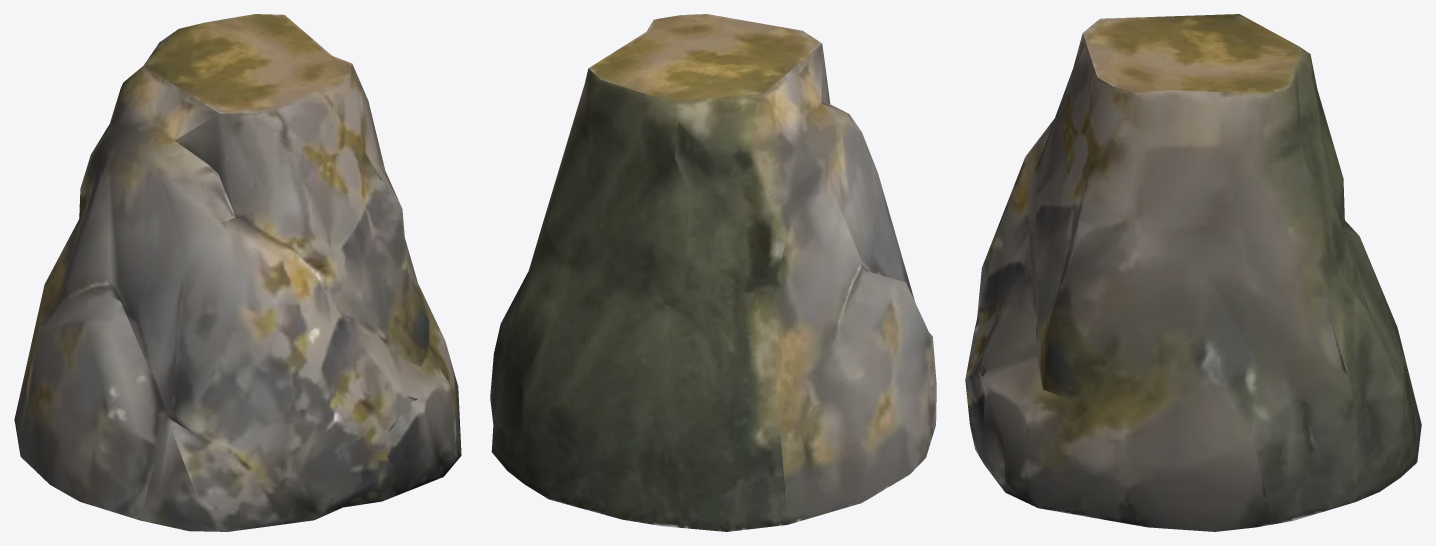
The model's file is boulder-2.phone.glb.
The picture shows the model from 3 angles, left to right: view 1: azimuth 30°, elevation 25°; view 2: azimuth 150°, elevation 25°; view 3: azimuth 270°, elevation 25°; orthographic projection. The views are drawn at different scales.
Parts seen in each view (by area): view 1: boulder-2.raw; view 2: boulder-2.raw; view 3: boulder-2.raw.
Part boxes in pixels (x1,y1,x2,y2): boulder-2.raw: [14, 14, 461, 531]; boulder-2.raw: [490, 14, 936, 531]; boulder-2.raw: [965, 14, 1421, 531].
Bounding box in the file's own units: 2.15 × 1.99 × 2.14.
1 material, 1 textured.
